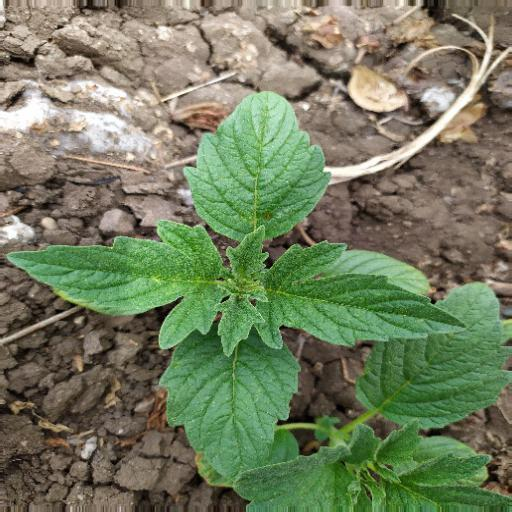crop: (9, 80, 460, 467)
